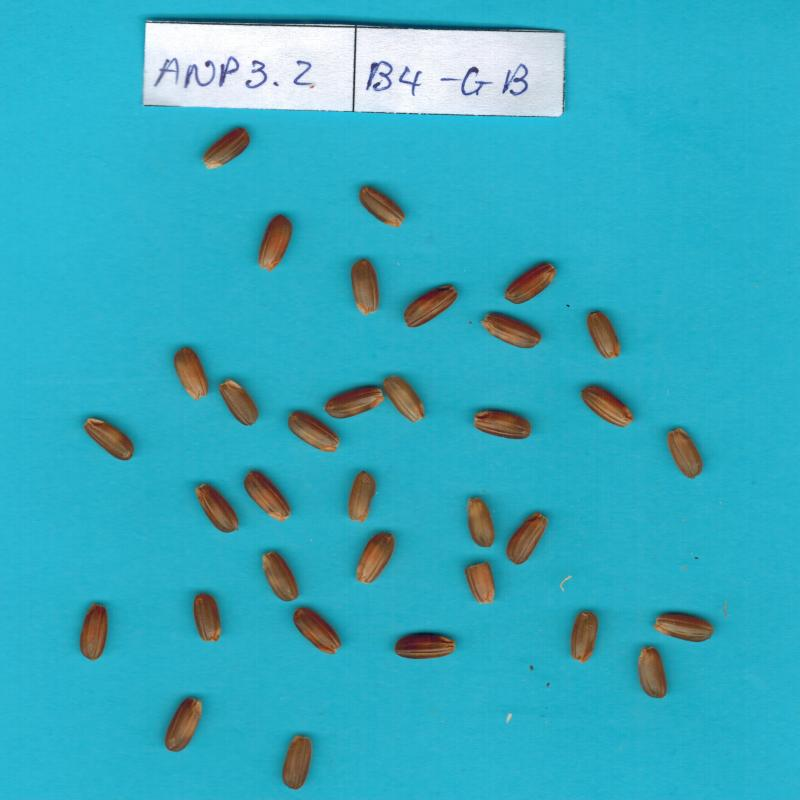Break: (464, 562, 495, 604)
Rice: (244, 471, 291, 522), (404, 285, 458, 327), (293, 607, 341, 654), (581, 386, 634, 427), (507, 512, 548, 565), (84, 418, 134, 461), (481, 313, 542, 348), (505, 263, 556, 304), (288, 412, 340, 452), (195, 484, 238, 532), (165, 698, 202, 752), (356, 533, 395, 584), (202, 128, 250, 169), (324, 387, 385, 419), (383, 377, 425, 422), (359, 186, 405, 227), (259, 215, 292, 272), (667, 428, 703, 479), (219, 379, 258, 426), (174, 347, 208, 400), (262, 552, 298, 601), (653, 614, 714, 642), (282, 735, 312, 790), (351, 259, 379, 316), (80, 603, 108, 660), (474, 411, 531, 439), (587, 312, 620, 359), (394, 634, 455, 659), (638, 647, 667, 699), (348, 471, 376, 523), (571, 611, 598, 663), (467, 497, 495, 547), (193, 593, 221, 642)
